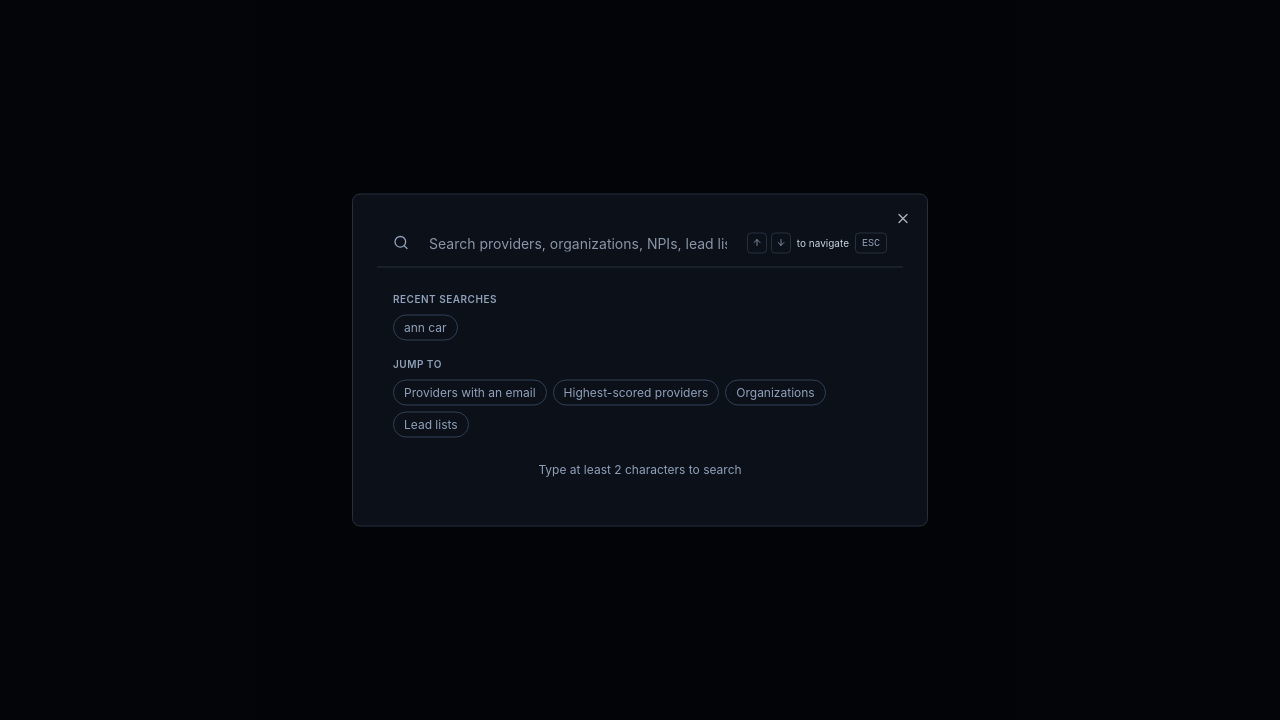
GlobalSearchDialog › says it is searching rather than "no results" while waiting
The image size is (1280, 720).
In the dropdown labelled "Search": x=578, y=242 [417,218,739,266], type "zzz"
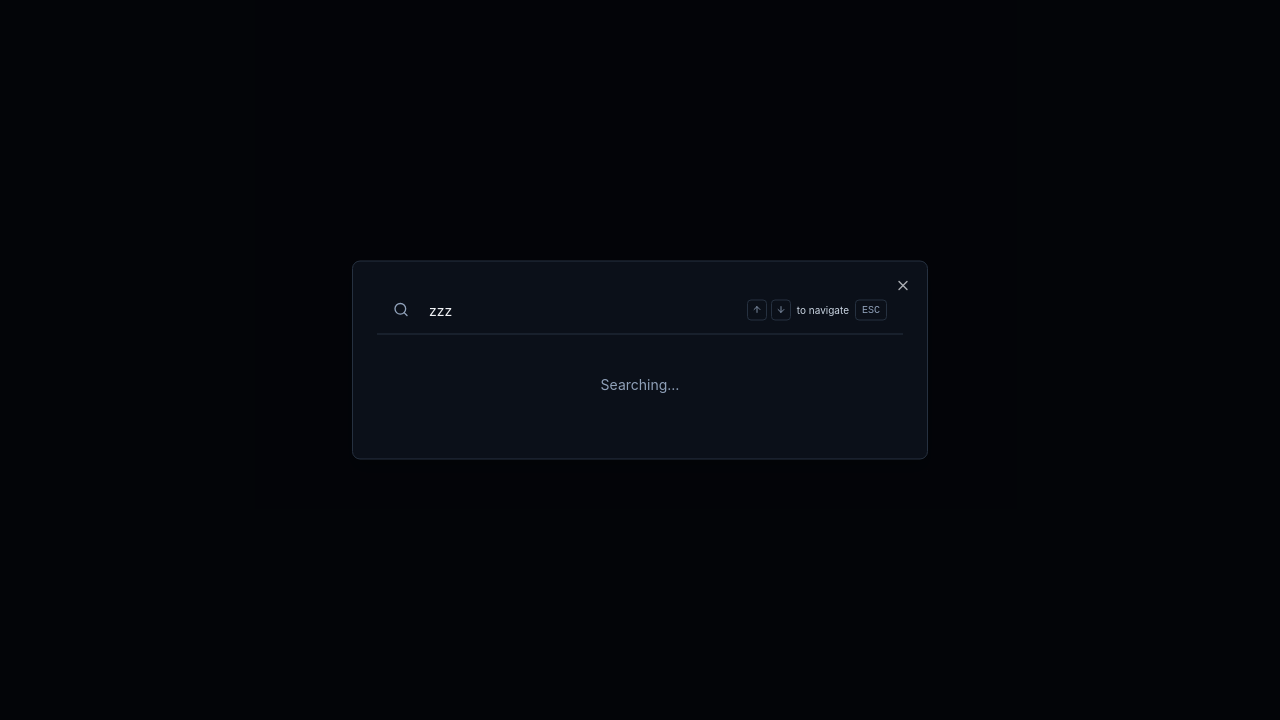
Result: the message shows "Searching" at [601,376,679,392]
